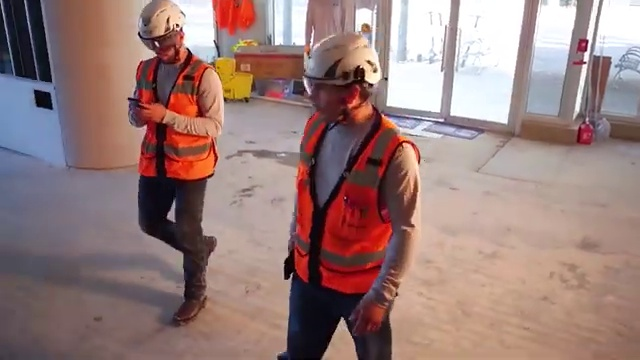helmet: (299, 30, 394, 87), (137, 1, 192, 40)
jacket: (280, 111, 429, 298), (130, 59, 223, 180)
